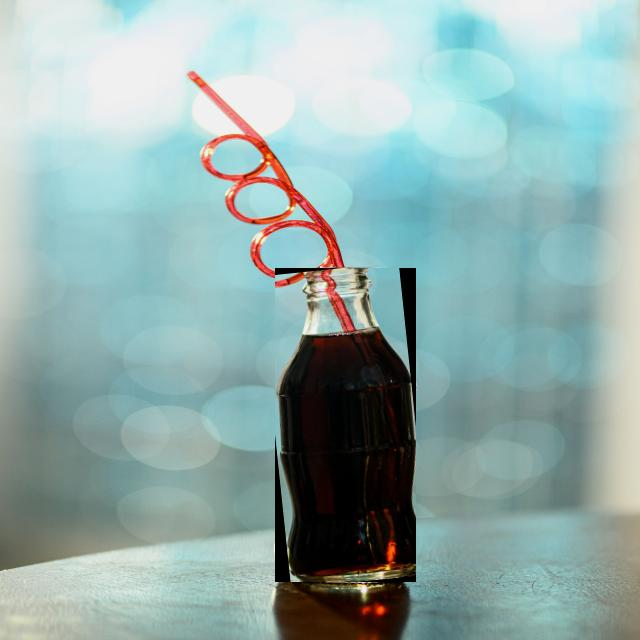Bottle: (274, 268, 414, 582)
